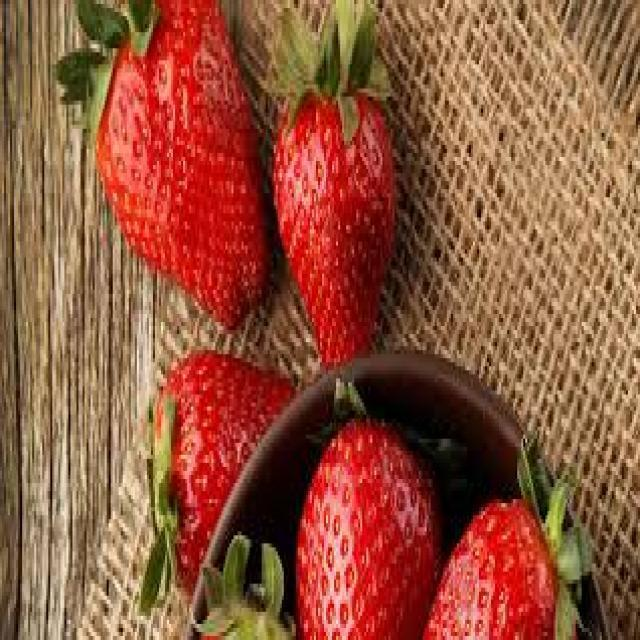Strawberry: (52, 0, 272, 330), (269, 0, 396, 366), (139, 346, 296, 612), (292, 374, 441, 636), (414, 434, 592, 636)
